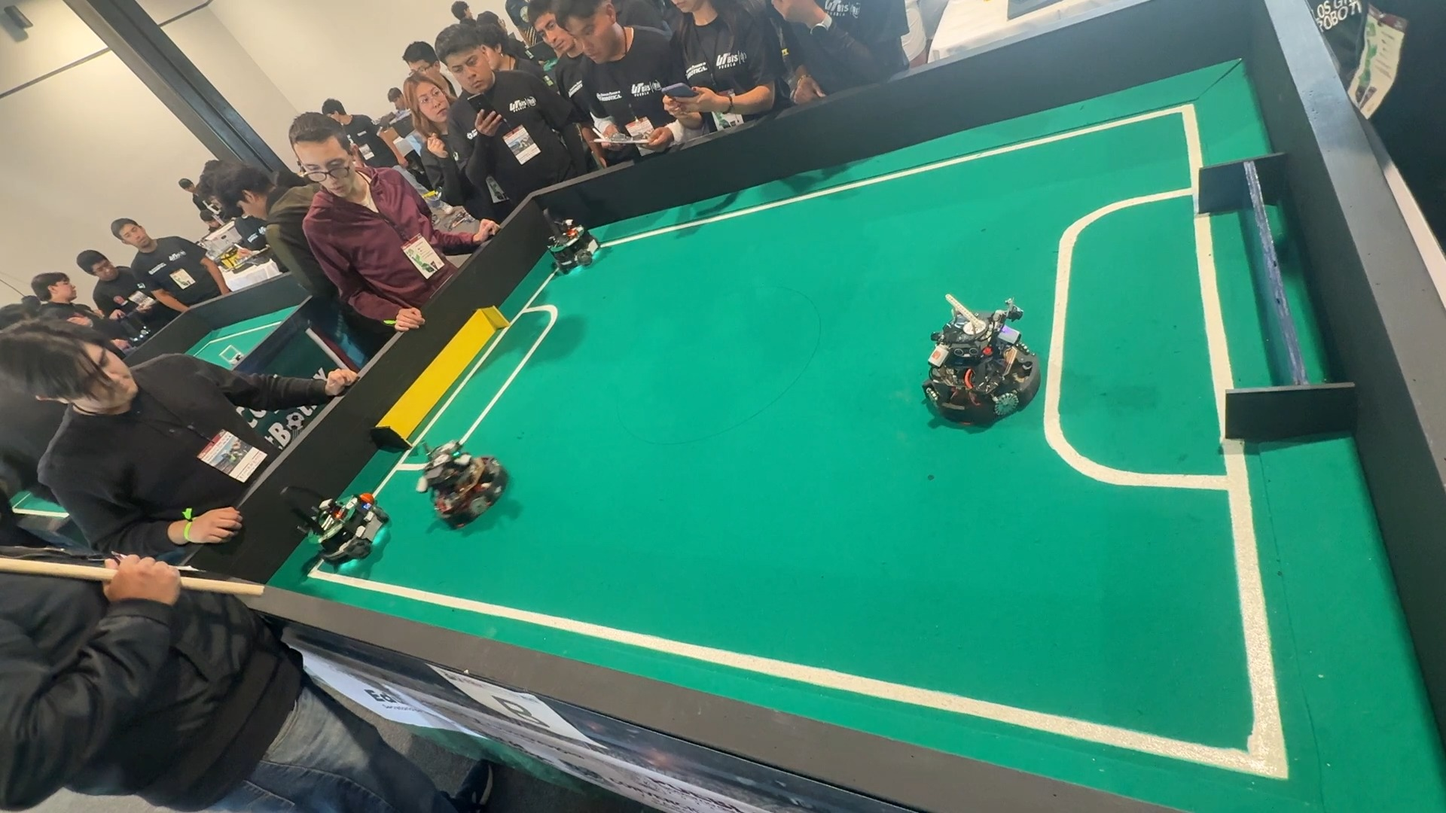Robot: (918, 276, 1053, 440), (270, 492, 392, 568), (409, 438, 506, 520), (538, 204, 599, 275)
